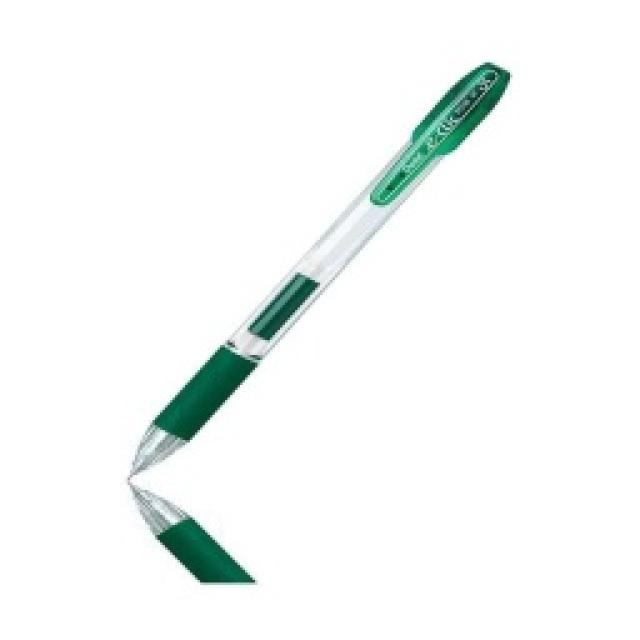pencil: (123, 55, 515, 587)
